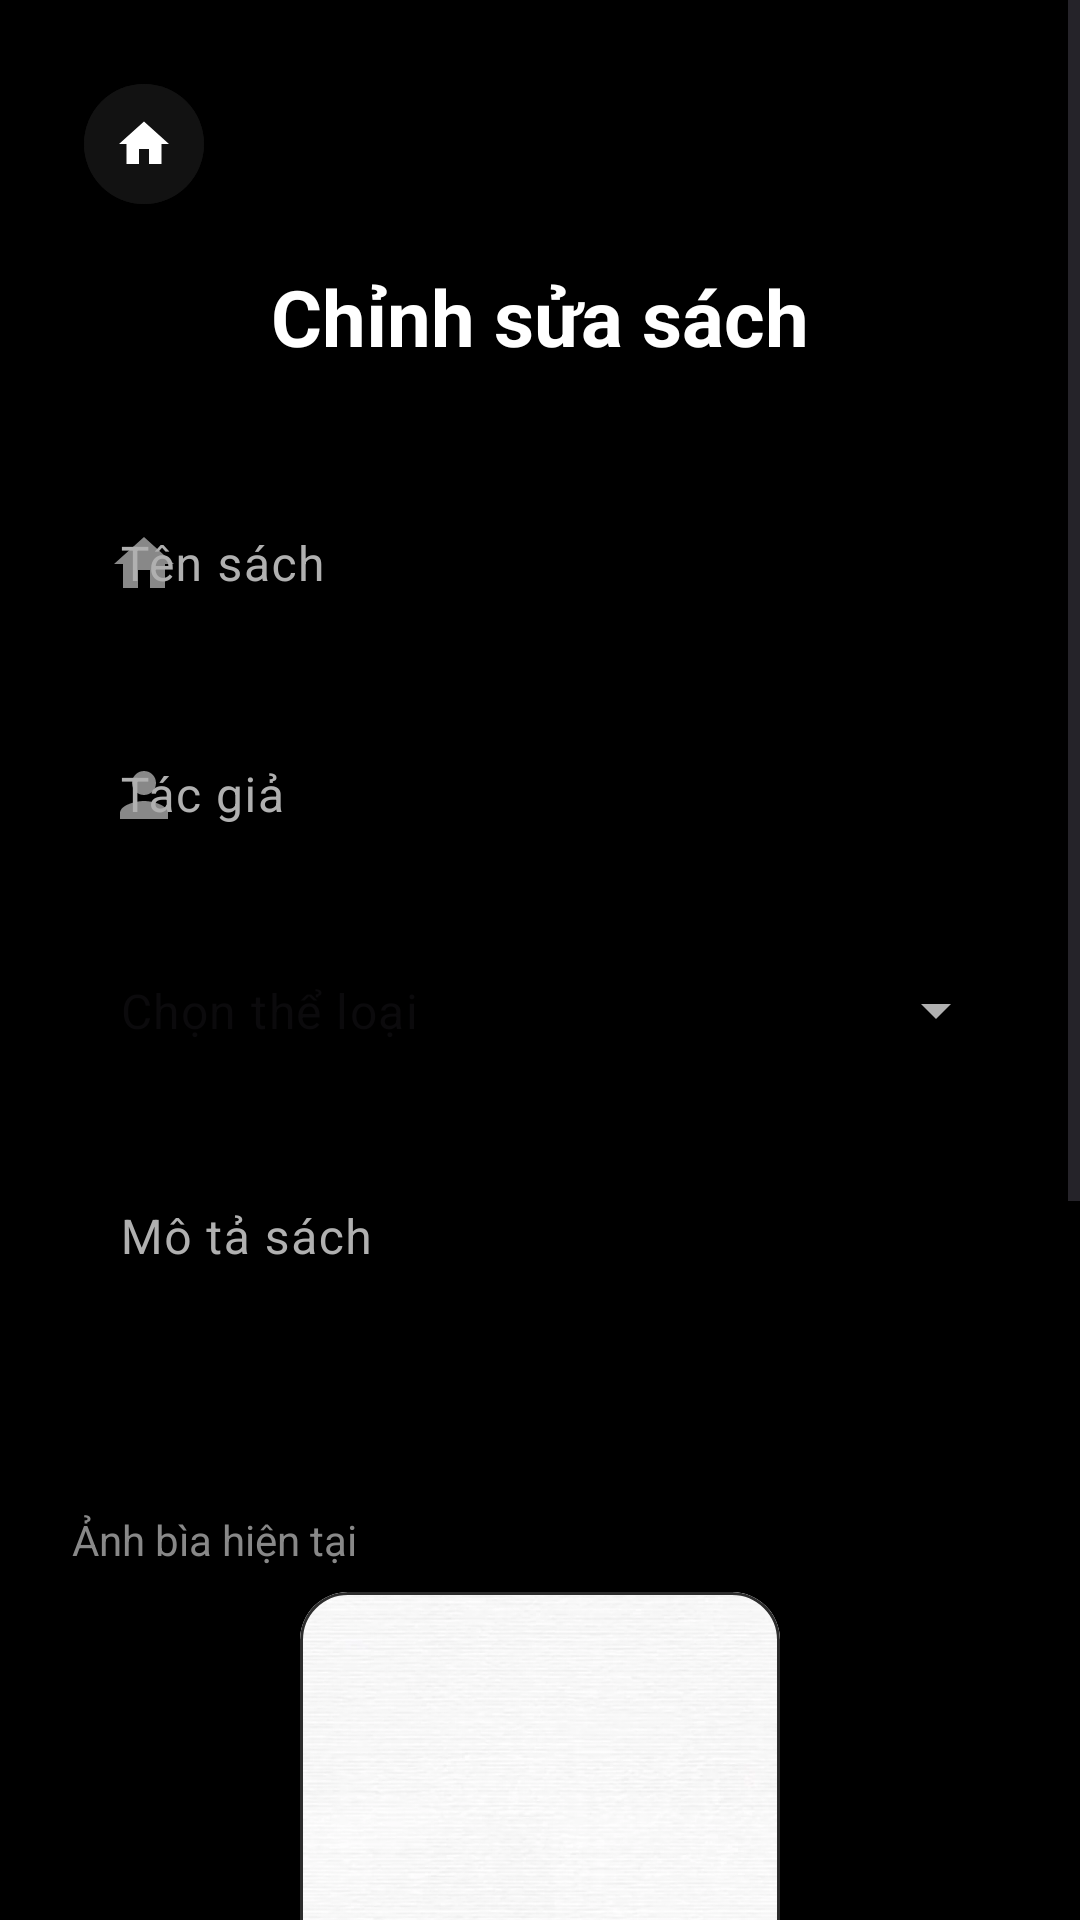

Screen size 1080px x 1920px. Icon name, then its center in pixels as (x=x, y=y):
home: (x=144, y=142)
